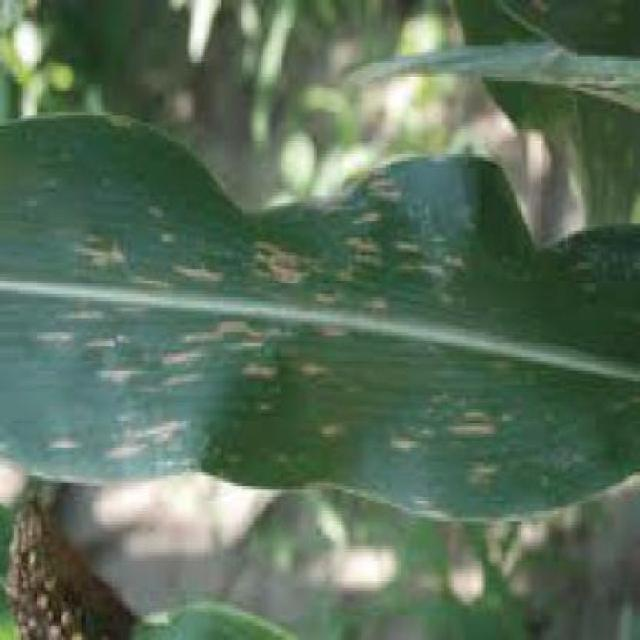Corn_Grey_Leaf_Spot: (0, 126, 640, 526)
